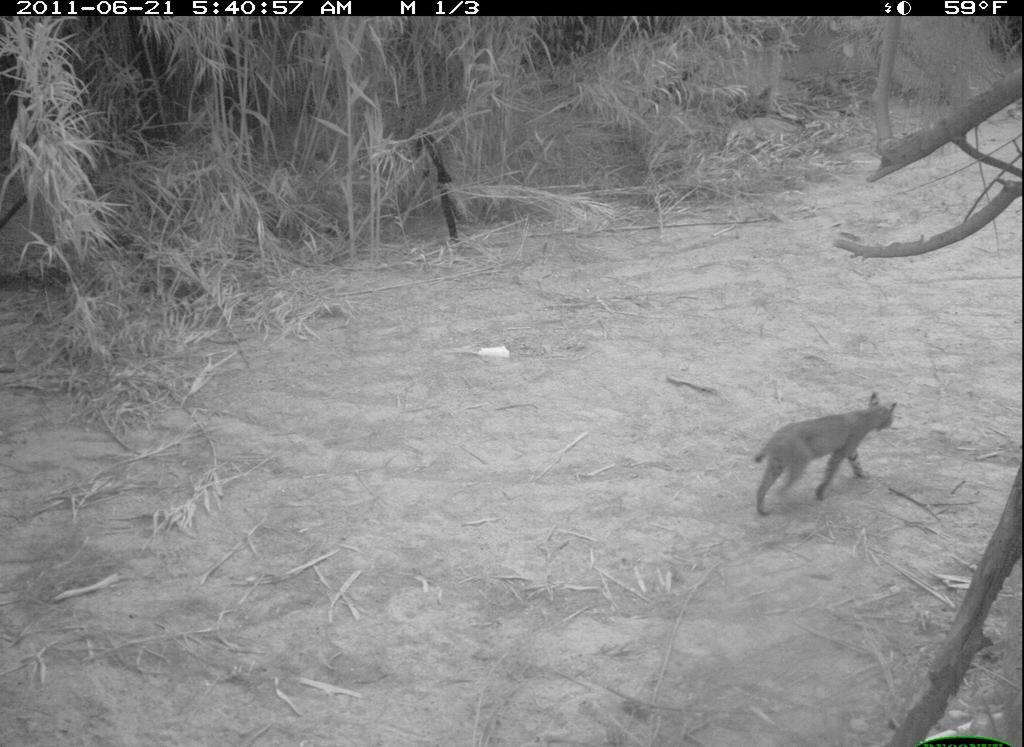bobcat: (752, 387, 909, 523)
